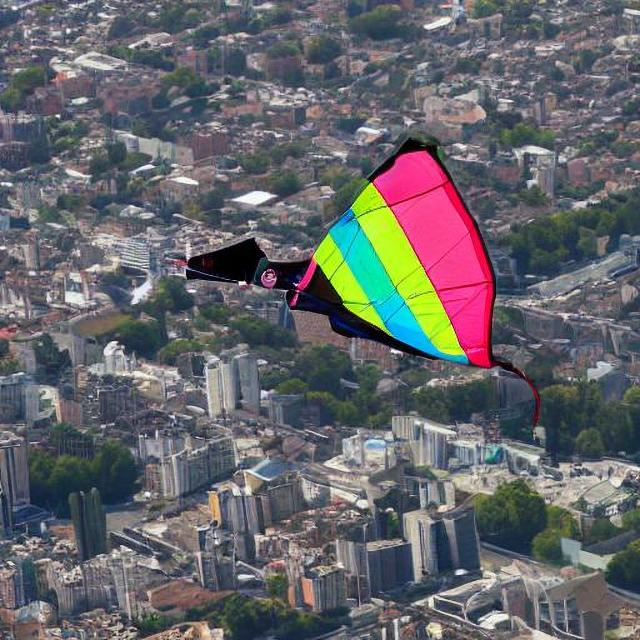floating object: (288, 132, 502, 356), (181, 233, 271, 286)
